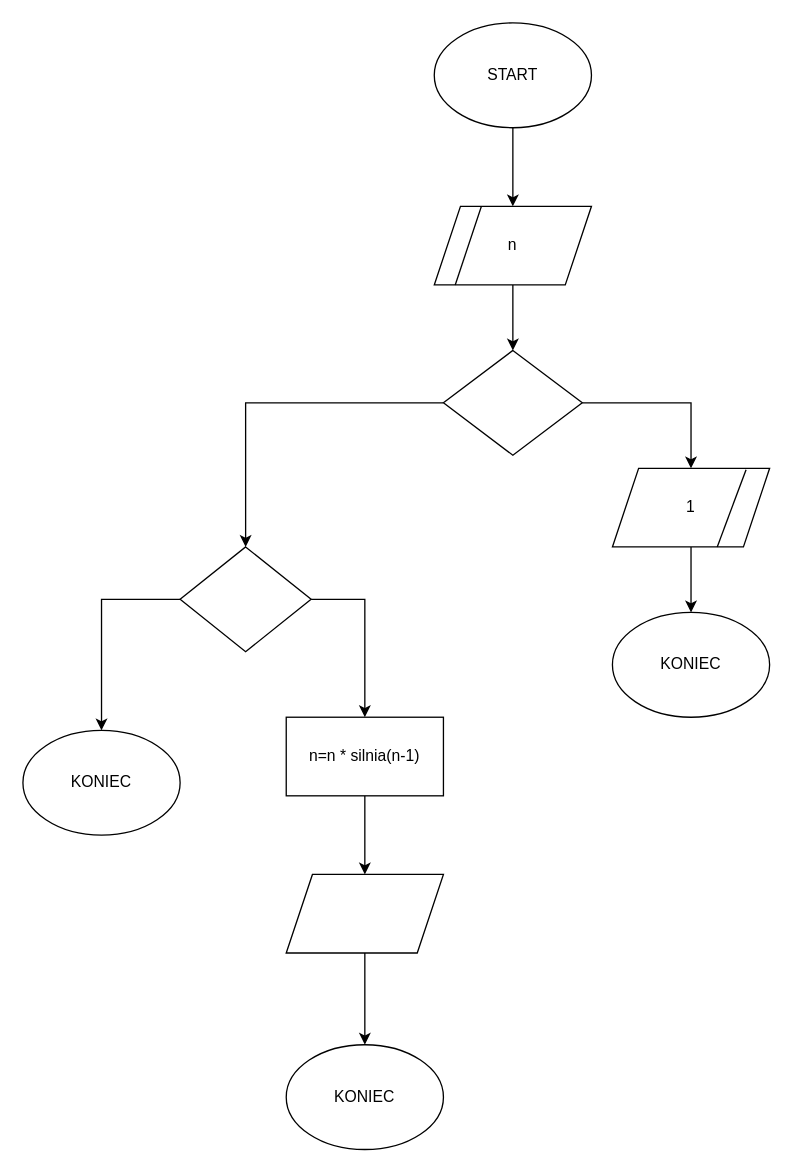
Image size: 793x1172. Some labels were removed from this diagram. The centre of each missing label's shape, as x and y in pixels:
"n == 0" goes at [512,402].
"n >=1" goes at [245,599].
"return n" goes at [364,913].
